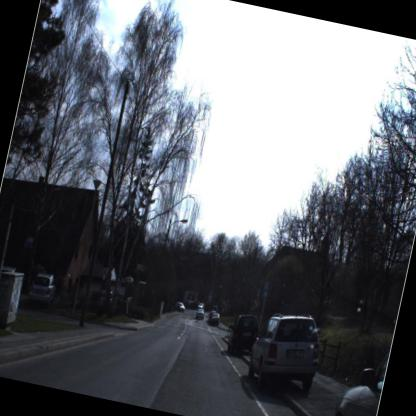danger: (246, 293, 263, 315)
